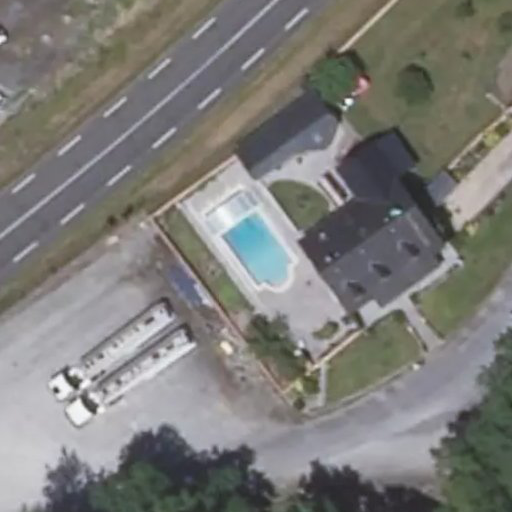pool: (212, 217, 312, 277)
